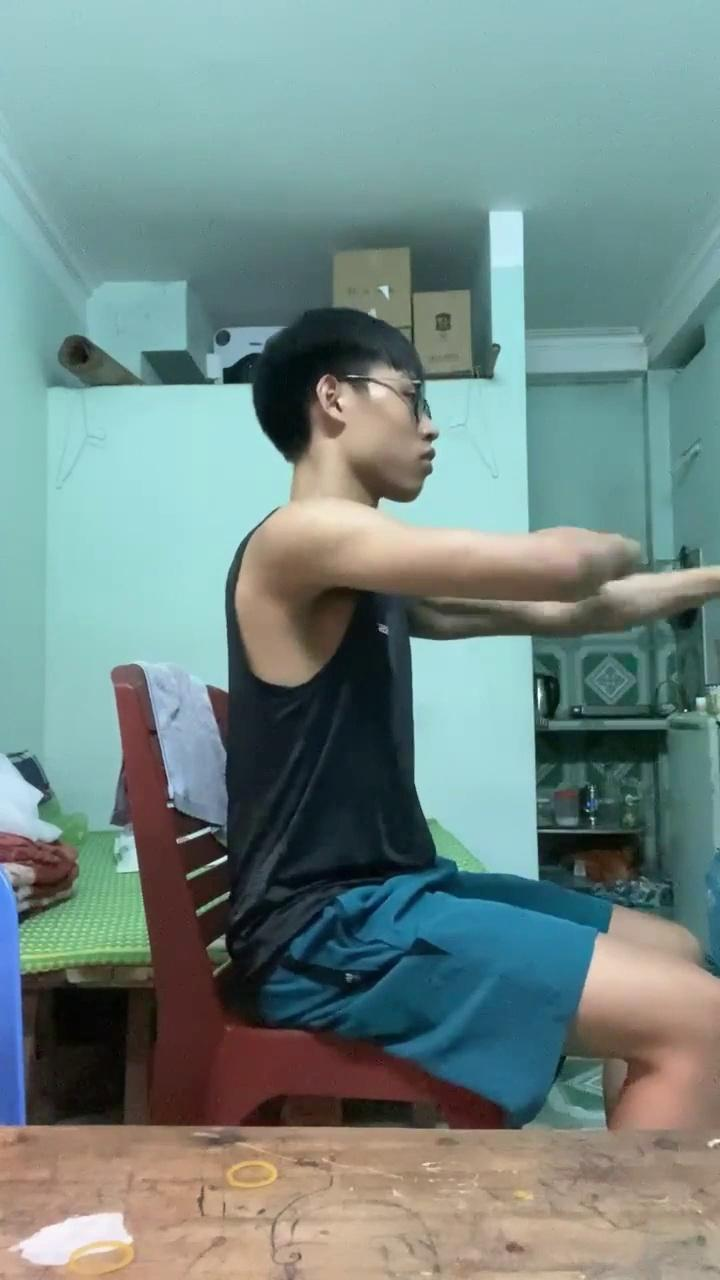GoodPosture: (117, 307, 719, 1132)
